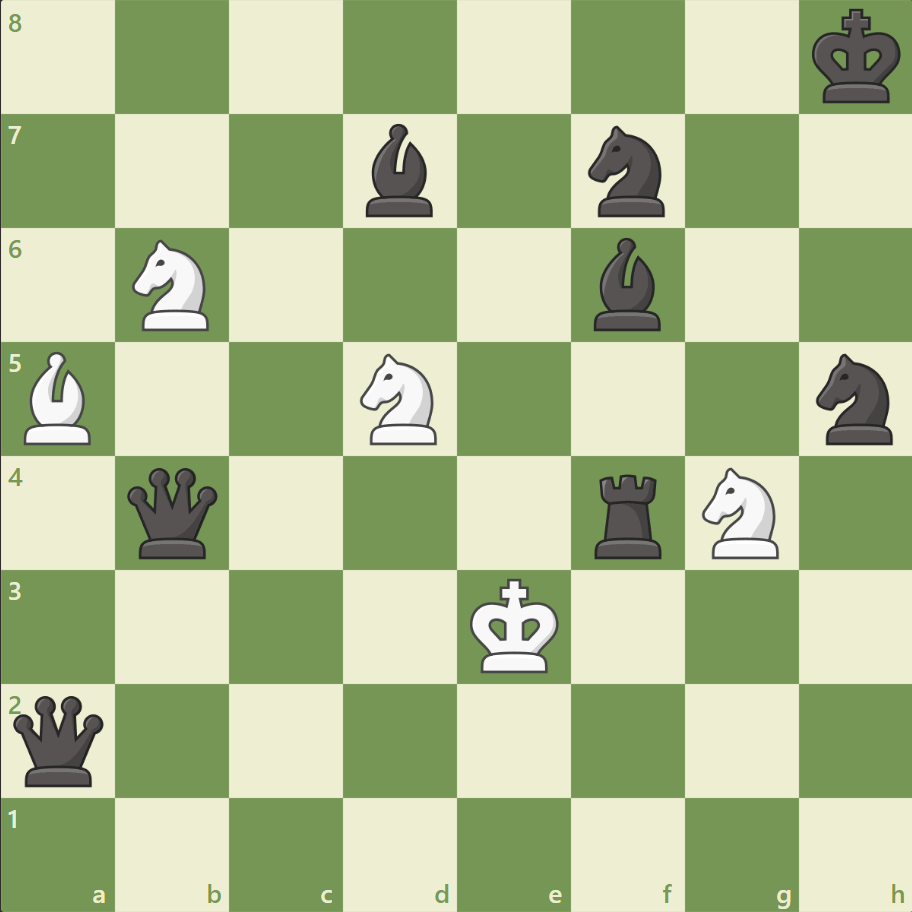B: (17, 347, 101, 449)
K: (465, 571, 565, 679)
N: (124, 234, 222, 337), (351, 348, 449, 450), (692, 461, 789, 564)
b: (585, 233, 669, 336), (358, 120, 442, 222)
k: (806, 4, 906, 112)
n: (579, 121, 676, 223), (806, 348, 903, 450)
q: (124, 463, 223, 562), (10, 690, 109, 789)
r: (587, 466, 670, 563)
